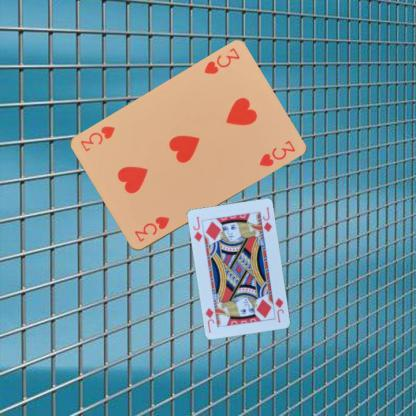3h: (201, 45, 241, 76), (131, 214, 171, 243)
Jd: (191, 214, 204, 244), (273, 295, 285, 324)
